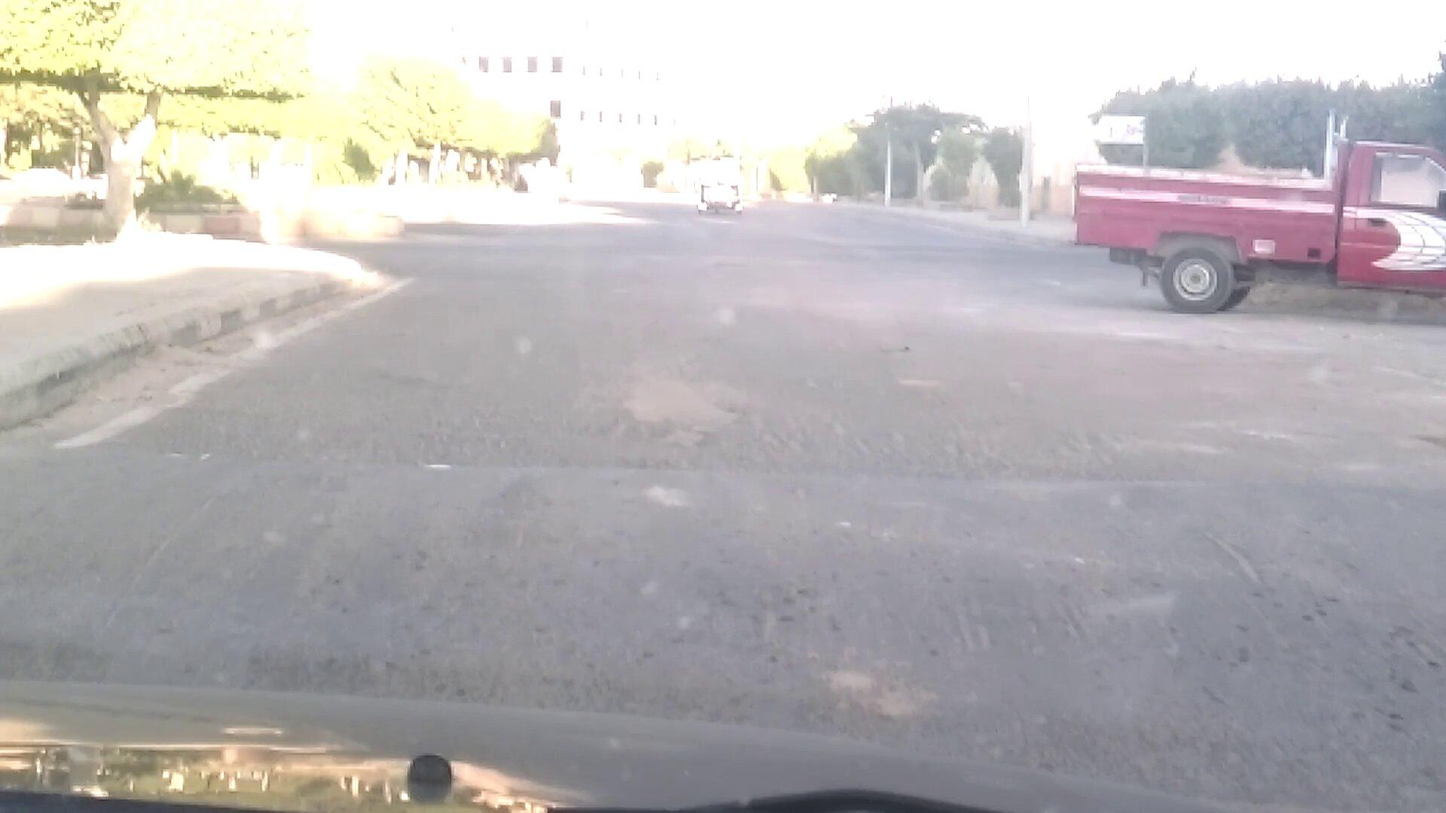Bump: (0, 463, 1431, 745)
